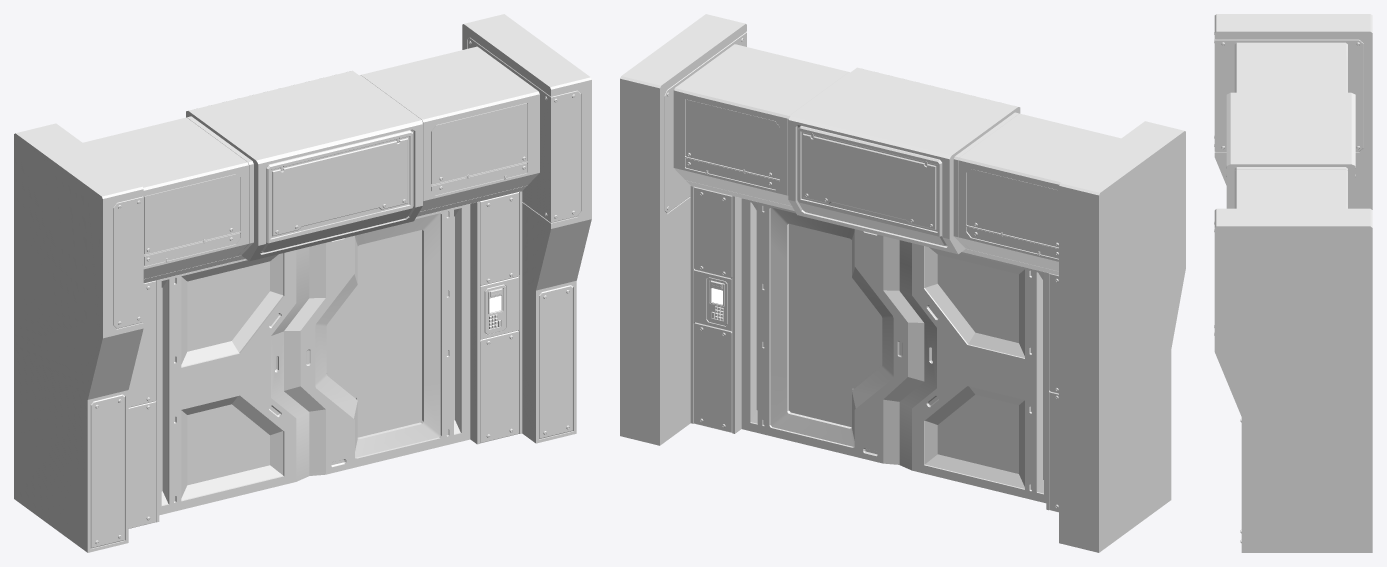
The model's file is KB3D_FTW_PropDoubleDoor_D_grp.glb.
3 views of the same model, side by side, from view 1: azimuth 30°, elevation 25°; view 2: azimuth 150°, elevation 25°; view 3: azimuth 270°, elevation 25° (orthographic). The views are drawn at different scales.
Visible parts, largest first — view 1: KB3D_FTW_PropDoubleDoor_D_Frame, KB3D_FTW_PropDoubleDoor_D_DoorRght, KB3D_FTW_PropDoubleDoor_D_DoorLeft; view 2: KB3D_FTW_PropDoubleDoor_D_Frame, KB3D_FTW_PropDoubleDoor_D_DoorRght, KB3D_FTW_PropDoubleDoor_D_DoorLeft; view 3: KB3D_FTW_PropDoubleDoor_D_Frame.
Boxes of the visible parts, <box> form: KB3D_FTW_PropDoubleDoor_D_Frame: <box>14,14,591,552</box>; KB3D_FTW_PropDoubleDoor_D_DoorRght: <box>284,204,470,475</box>; KB3D_FTW_PropDoubleDoor_D_DoorLeft: <box>159,247,309,515</box>; KB3D_FTW_PropDoubleDoor_D_Frame: <box>620,14,1185,552</box>; KB3D_FTW_PropDoubleDoor_D_DoorRght: <box>741,198,924,464</box>; KB3D_FTW_PropDoubleDoor_D_DoorLeft: <box>899,240,1046,503</box>; KB3D_FTW_PropDoubleDoor_D_Frame: <box>1214,14,1372,552</box>.
Size of the model in its own units: 5.99 by 4.29 by 1.89.
Materials: 14 (1 with a texture image).
